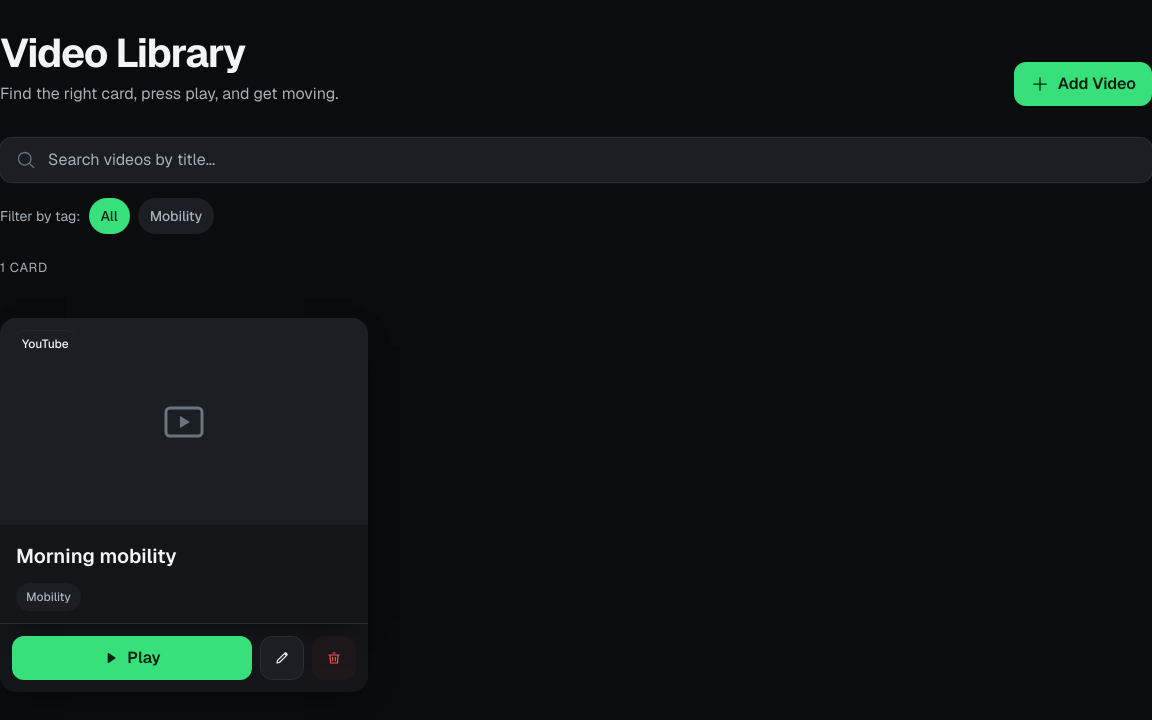
Test case: VideosPage › keeps the newest search and tag results when responses finish out of order
Type "morning" into the search field labelled "Search videos" at (576, 160), box 0,138 -> 1151,182
Wait 300 ms
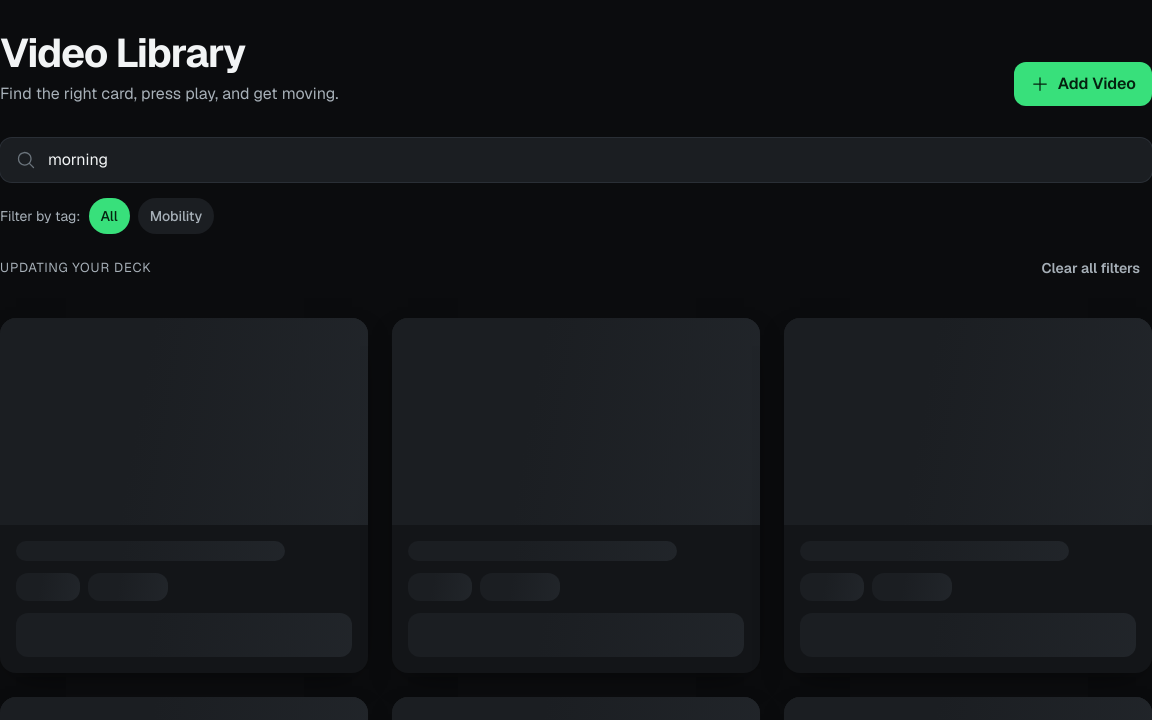
Replace the text in the search field named "Search videos" with "evening" at (576, 160), box 0,138 -> 1151,182
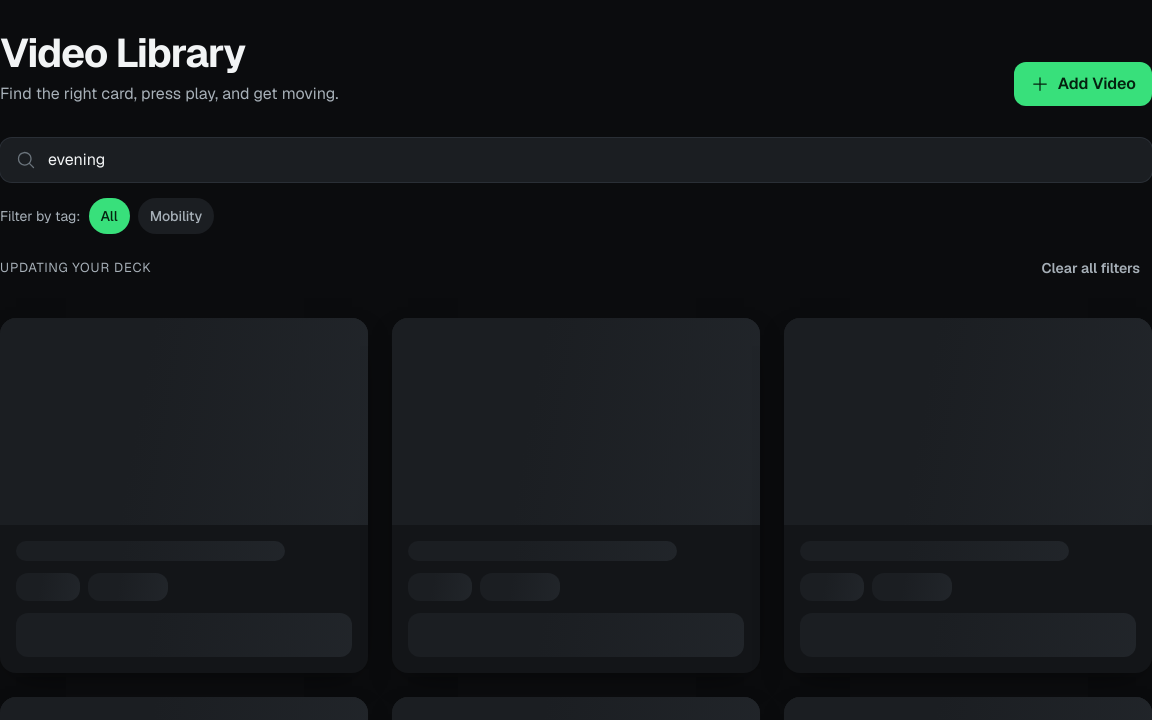
Click the button "Mobility" at (176, 216), box 138,198 -> 214,234
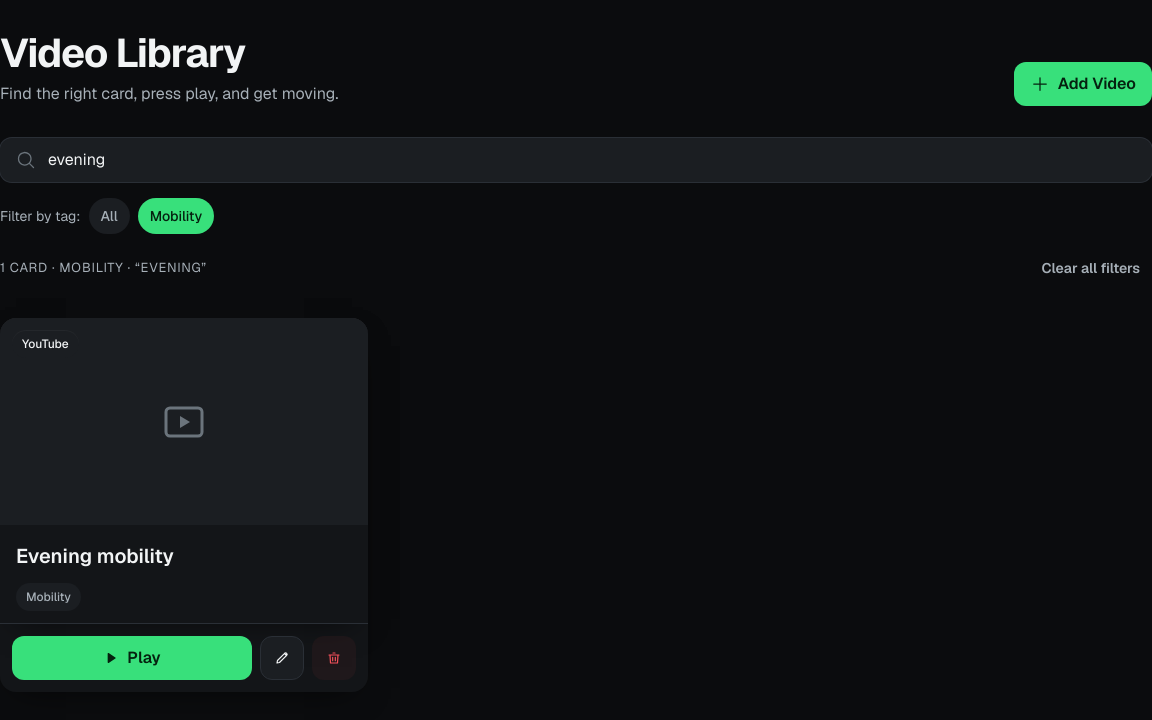
Expected: the link "Morning mobility" is not shown
Expected: the heading "Evening mobility" is shown, 16,543 -> 174,569
